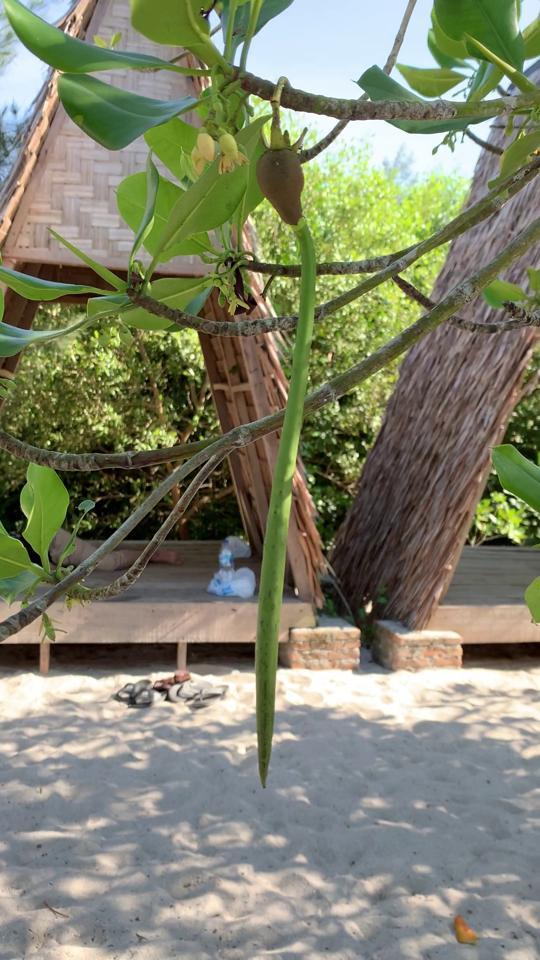setengah matang: (249, 129, 317, 806)
